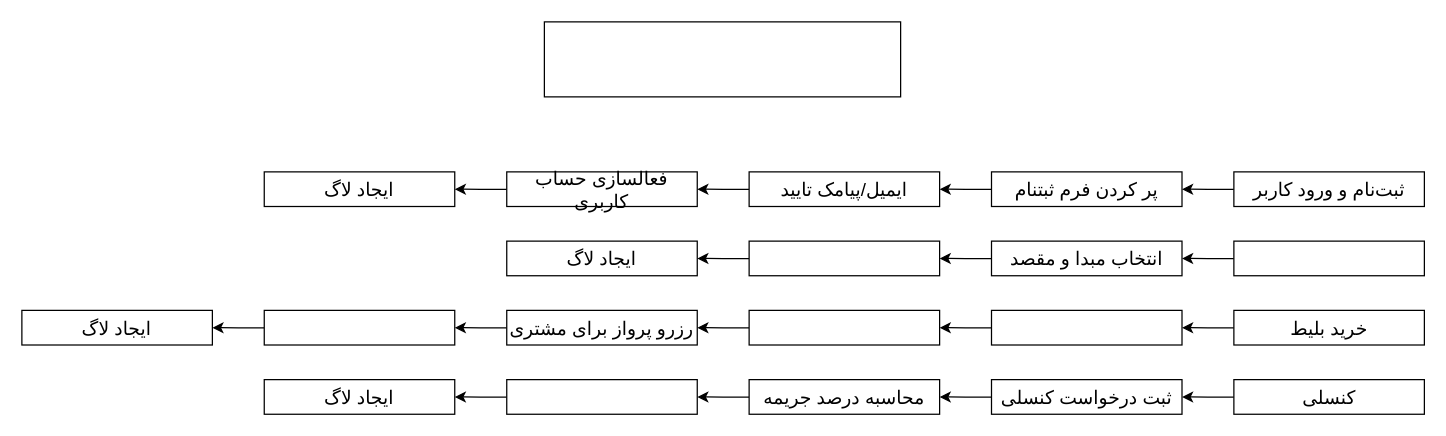
Image size: 1446x436. Some labels were removed from this diagram. Each missing label, with the box of its shape:
انتخاب پرواز: (990, 309, 1182, 345)
ثبت ترنزکشن: (263, 309, 455, 345)
ثبت کنسلی: (506, 378, 697, 414)
جستجوی پرواز: (1233, 240, 1424, 276)
نمایش نتایج: (748, 240, 940, 276)
پروژه رزرو بلیط پرواز: (543, 21, 901, 97)
کسر مبلغ از موجودی: (748, 309, 940, 345)
